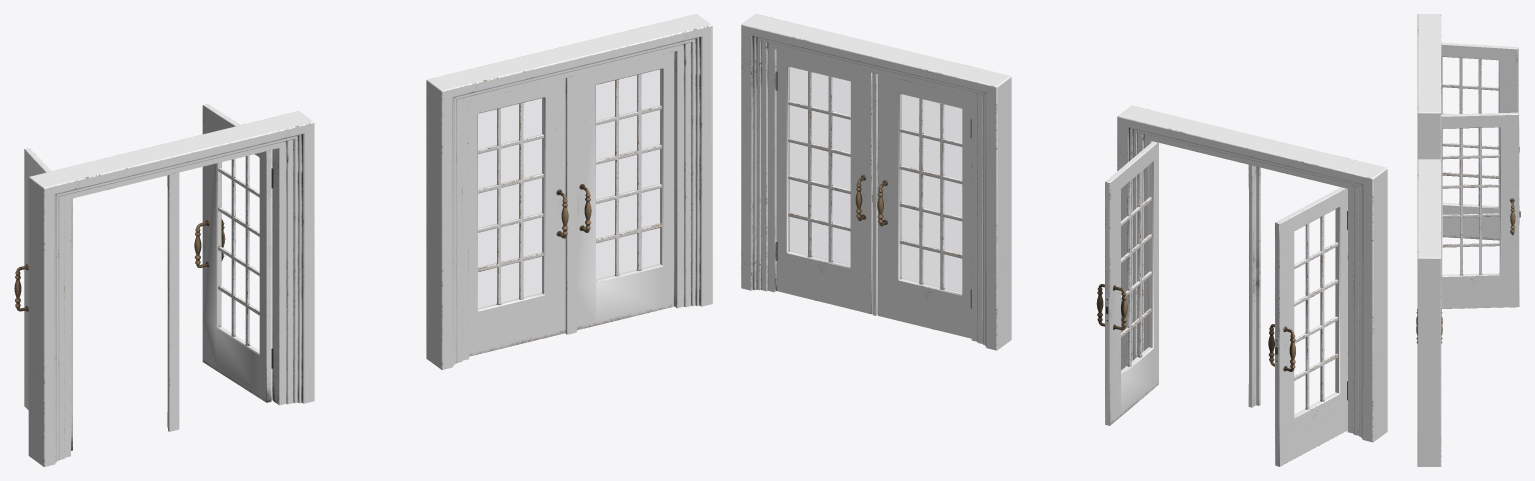
The picture shows the model from 3 angles, left to right: view 1: azimuth 30°, elevation 25°; view 2: azimuth 150°, elevation 25°; view 3: azimuth 270°, elevation 25°; orthographic projection. The views are drawn at different scales.
Parts seen in each view (by area): view 1: Cylinder_2, Cylinder, Polygon_1, d_1, d_1_1, d_1_2, d_1_1_2; view 2: Cylinder, Cylinder_2, Polygon_1, d_1, d_1_1, d_1_1_2, d_1_2; view 3: d_1_2, Cylinder, d_1_1_2, Cylinder_2.
Part boxes in pixels (<box>): Cylinder_2: <box>28,111,314,466</box>; Cylinder: <box>426,14,712,369</box>; Polygon_1: <box>478,69,661,308</box>; d_1: <box>577,52,674,330</box>; d_1_1: <box>469,78,568,356</box>; d_1_2: <box>194,103,273,402</box>; d_1_1_2: <box>14,148,72,450</box>; Cylinder: <box>741,14,1011,350</box>; Cylinder_2: <box>1117,105,1387,442</box>; Polygon_1: <box>789,67,961,292</box>; d_1: <box>775,49,872,314</box>; d_1_1: <box>877,74,971,338</box>; d_1_1_2: <box>1268,187,1347,466</box>; d_1_2: <box>1096,141,1158,425</box>; d_1_2: <box>1441,112,1520,308</box>; Cylinder: <box>1417,159,1441,466</box>; d_1_1_2: <box>1441,42,1519,240</box>; Cylinder_2: <box>1417,14,1441,159</box>.
Bounding box in the file's own units: 7.26 × 2.89 × 1.31.
Materials: 2 (1 with a texture image).
